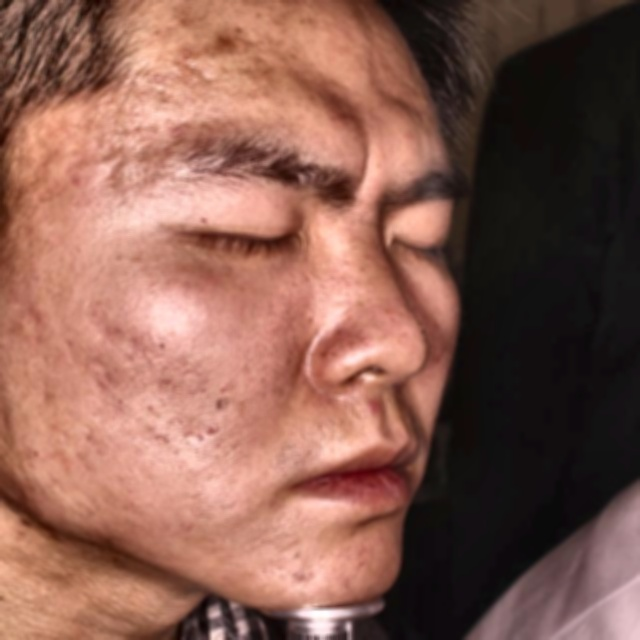comedone: (213, 28, 248, 62), (363, 397, 389, 421), (15, 467, 38, 492), (68, 170, 95, 190)
